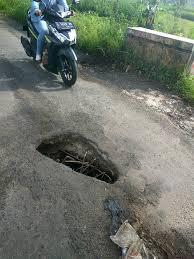Pothole: (32, 129, 122, 186)
